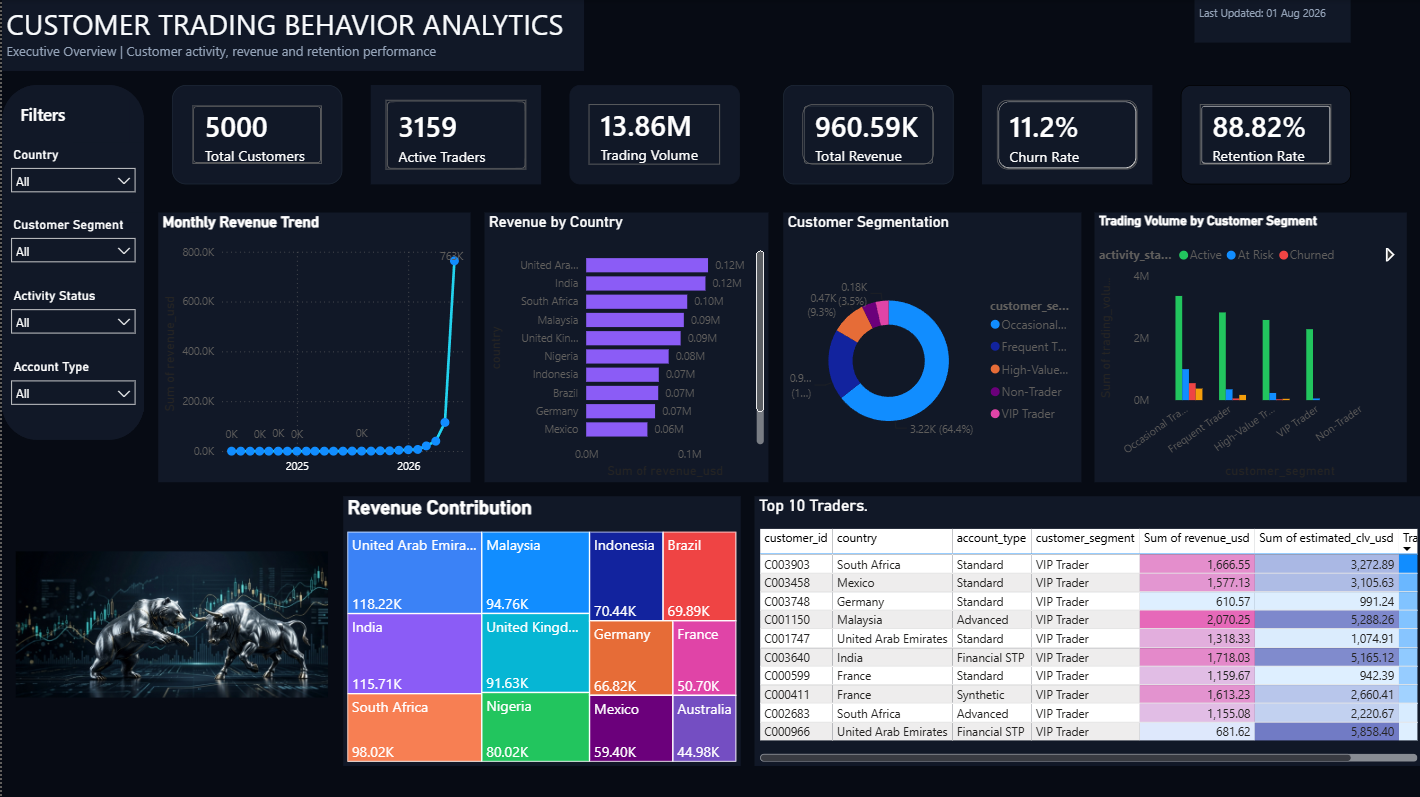

The dashboard page shown, as its layout file describes it:
{"tool":"powerbi","page":{"name":"Executive Overview","canvas":[1600,900],"ordinal":0},"visuals":[{"type":"textbox","box":[0,0,656,80],"z":0},{"type":"textbox","box":[1344,0,176,48],"z":1000},{"type":"cardVisual","fields":{"Data":["customer_analytics.Total Customers"]},"box":[192,96,192,112],"z":2000},{"type":"cardVisual","fields":{"Data":["customer_analytics.Active Traders"]},"box":[416,96,192,112],"z":3000},{"type":"cardVisual","fields":{"Data":["customer_analytics.Retention Rate"]},"box":[1328,96,192,112],"z":4000},{"type":"cardVisual","fields":{"Data":["customer_analytics.Trading Volume"]},"box":[640,96,192,112],"z":5000},{"type":"cardVisual","fields":{"Data":["customer_analytics.Total Revenue"]},"box":[880,96,192,112],"z":6000},{"type":"cardVisual","fields":{"Data":["customer_analytics.Churn Rate"]},"box":[1104,96,192,112],"z":7000},{"type":"clusteredBarChart","title":"Revenue by Country","fields":{"Category":["vw_country_performance.country"],"Y":["Sum(customer_analytics.revenue_usd)"]},"box":[544,240,320,304],"z":8000},{"type":"donutChart","title":"Customer Segmentation","fields":{"Category":["customer_analytics.customer_segment"],"Y":["Count(customer_analytics.customer_id)"]},"box":[880,240,336,304],"z":9000},{"type":"treemap","title":"Revenue Contribution","fields":{"Group":["customer_analytics.country"],"Values":["Sum(customer_analytics.revenue_usd)"]},"box":[384,560,448,304],"z":10000},{"type":"clusteredColumnChart","title":"Trading Volume by Customer Segment","fields":{"Category":["customer_analytics.customer_segment"],"Series":["customer_analytics.activity_status"],"Y":["Sum(customer_analytics.trading_volume_usd)"]},"box":[1232,240,352,304],"z":11000},{"type":"lineChart","title":"Monthly Revenue Trend","fields":{"Category":["customer_analytics.last_trade_date.Variation.Date Hierarchy.Year","customer_analytics.last_trade_date.Variation.Date Hierarchy.Month"],"Y":["Sum(customer_analytics.revenue_usd)"]},"box":[176,240,352,304],"z":12000},{"type":"tableEx","title":"Top 10 Traders.","fields":{"Values":["customer_analytics.customer_id","customer_analytics.country","customer_analytics.account_type","customer_analytics.customer_segment","Sum(customer_analytics.revenue_usd)","Sum(customer_analytics.estimated_clv_usd)","customer_analytics.Trading Volume"]},"box":[848,560,752,304],"z":13000},{"type":"shape","box":[0,96,160,400],"z":13001},{"type":"slicer","title":"Country","fields":{"Values":["customer_analytics.country"]},"box":[0,160,160,80],"z":13002},{"type":"slicer","fields":{"Values":["customer_analytics.customer_segment"]},"box":[0,240,160,64],"z":13003},{"type":"slicer","fields":{"Values":["customer_analytics.activity_status"]},"box":[0,320,160,64],"z":13004},{"type":"slicer","fields":{"Values":["customer_analytics.account_type"]},"box":[0,400,160,64],"z":13005},{"type":"textbox","box":[16,112,128,48],"z":13006},{"type":"image","box":[16,544,352,320],"z":13007}]}

Visuals, with their boxes in screenshot pixels (x1, y1, x2, y2), scaled from the page's 1600x900 canvas onto the 1420x797 screenshot:
textbox: {"left": 0, "top": 0, "right": 582, "bottom": 71}
textbox: {"left": 1193, "top": 0, "right": 1349, "bottom": 43}
cardVisual - customer_analytics.Total Customers: {"left": 170, "top": 85, "right": 341, "bottom": 184}
cardVisual - customer_analytics.Active Traders: {"left": 369, "top": 85, "right": 540, "bottom": 184}
cardVisual - customer_analytics.Retention Rate: {"left": 1179, "top": 85, "right": 1349, "bottom": 184}
cardVisual - customer_analytics.Trading Volume: {"left": 568, "top": 85, "right": 738, "bottom": 184}
cardVisual - customer_analytics.Total Revenue: {"left": 781, "top": 85, "right": 951, "bottom": 184}
cardVisual - customer_analytics.Churn Rate: {"left": 980, "top": 85, "right": 1150, "bottom": 184}
"Revenue by Country" clusteredBarChart: {"left": 483, "top": 213, "right": 767, "bottom": 482}
"Customer Segmentation" donutChart: {"left": 781, "top": 213, "right": 1079, "bottom": 482}
"Revenue Contribution" treemap: {"left": 341, "top": 496, "right": 738, "bottom": 765}
"Trading Volume by Customer Segment" clusteredColumnChart: {"left": 1093, "top": 213, "right": 1406, "bottom": 482}
"Monthly Revenue Trend" lineChart: {"left": 156, "top": 213, "right": 469, "bottom": 482}
"Top 10 Traders." tableEx: {"left": 753, "top": 496, "right": 1419, "bottom": 765}
shape: {"left": 0, "top": 85, "right": 142, "bottom": 439}
"Country" slicer: {"left": 0, "top": 142, "right": 142, "bottom": 213}
slicer - customer_analytics.customer_segment: {"left": 0, "top": 213, "right": 142, "bottom": 269}
slicer - customer_analytics.activity_status: {"left": 0, "top": 283, "right": 142, "bottom": 340}
slicer - customer_analytics.account_type: {"left": 0, "top": 354, "right": 142, "bottom": 411}
textbox: {"left": 14, "top": 99, "right": 128, "bottom": 142}
image: {"left": 14, "top": 482, "right": 327, "bottom": 765}
